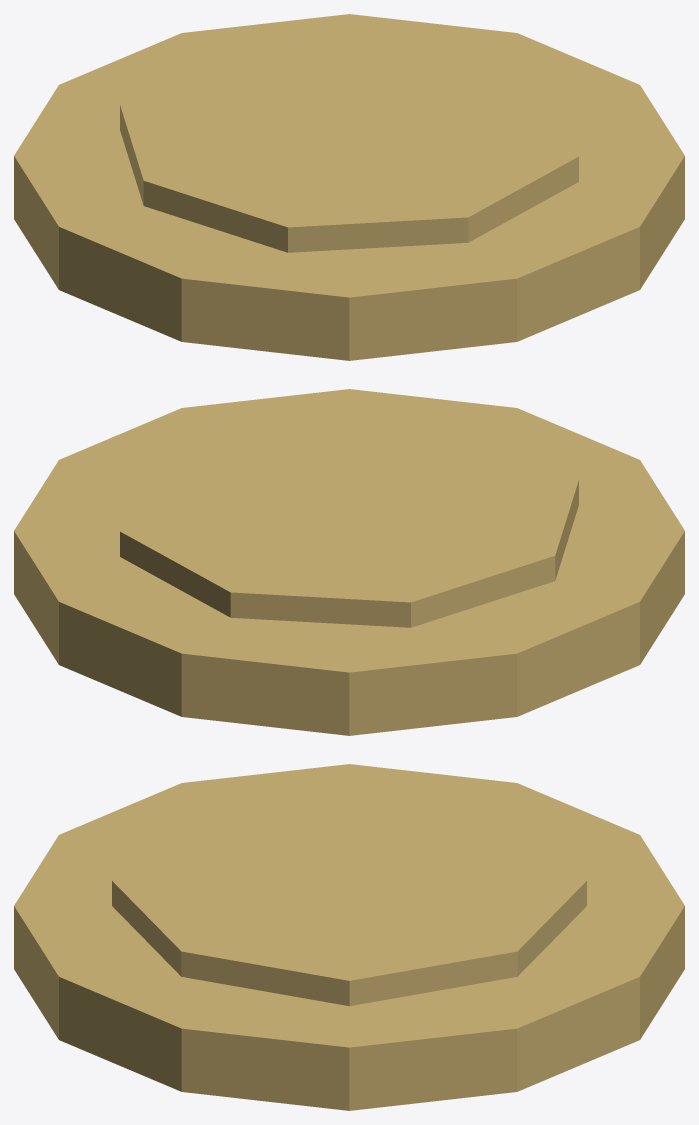
The model's file is item_116_coin_s.glb.
3 renders of one model, top to bottom at view 1: azimuth 30°, elevation 25°; view 2: azimuth 150°, elevation 25°; view 3: azimuth 270°, elevation 25°, orthographic.
Parts seen in each view (by area): view 1: item_116_coin_s; view 2: item_116_coin_s; view 3: item_116_coin_s.
Part boxes in pixels (box(x1,y1,x2,y2)): item_116_coin_s: box(14, 14, 684, 360); item_116_coin_s: box(14, 389, 684, 735); item_116_coin_s: box(14, 764, 684, 1110).
Size of the model in its own units: 0.24 by 0.035 by 0.24.
